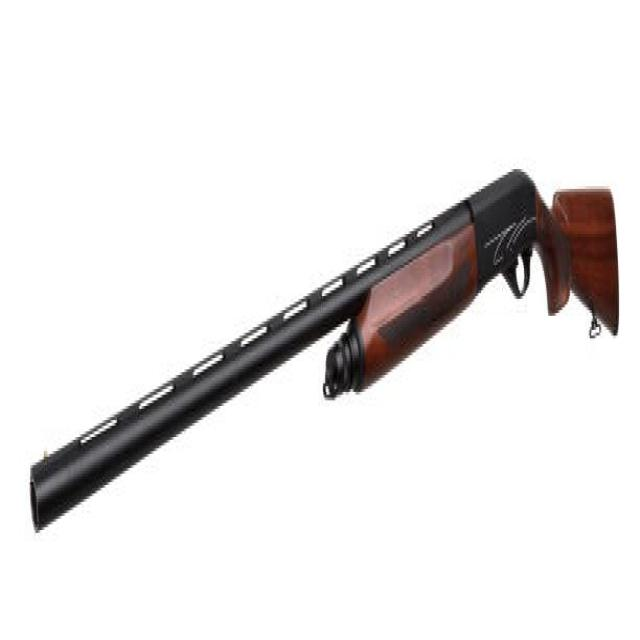rifle: (25, 156, 627, 552)
